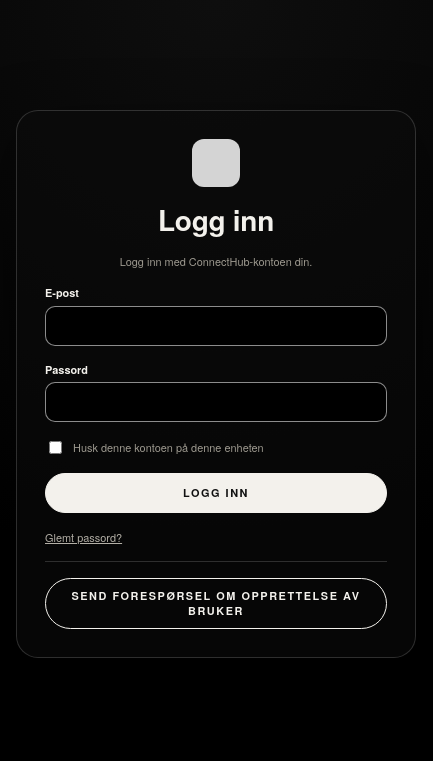
Test: forespørsel om konto (AUTH-07) › uten skjemanøkkel (serveren ikke satt opp): tydelig melding i stedet for en død knapp
Click the button "Send forespørsel om opprettelse av bruker" at (216, 604), box [45,578,387,629]
(page scrolled)
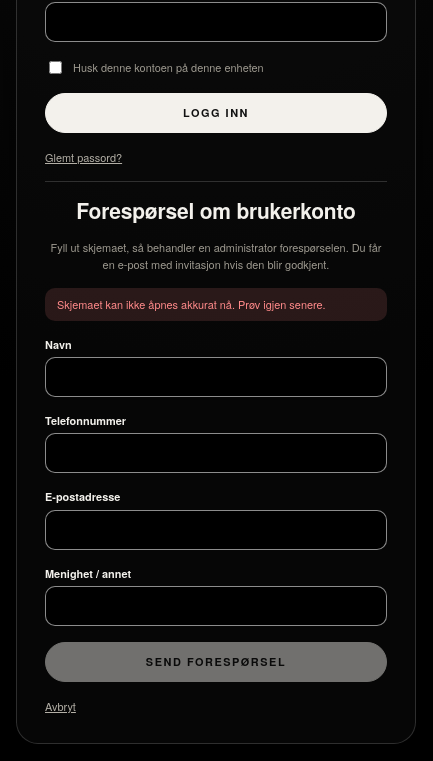
Expected: the message reads "Skjemaet kan ikke åpnes akkurat nå. Prøv igjen senere.", [57,296,326,312]
Expected: the button "Send forespørsel" is disabled, [45,642,387,682]
